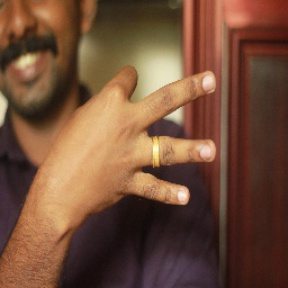K: (48, 63, 219, 211)
